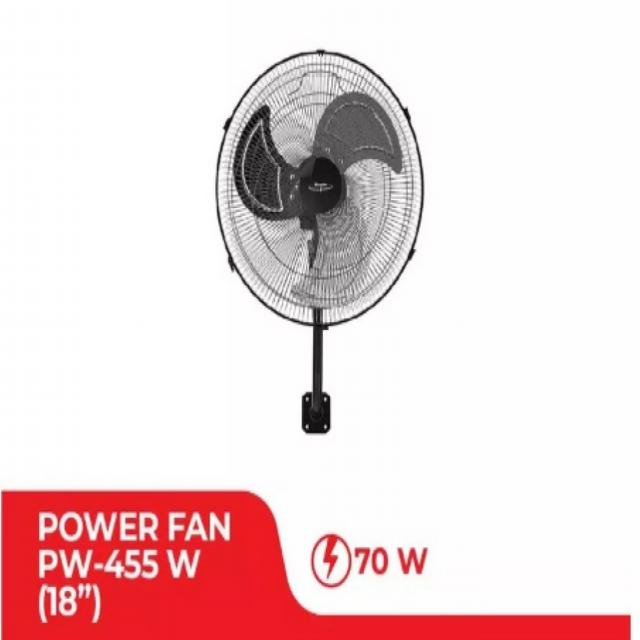fan: (207, 37, 430, 438)
